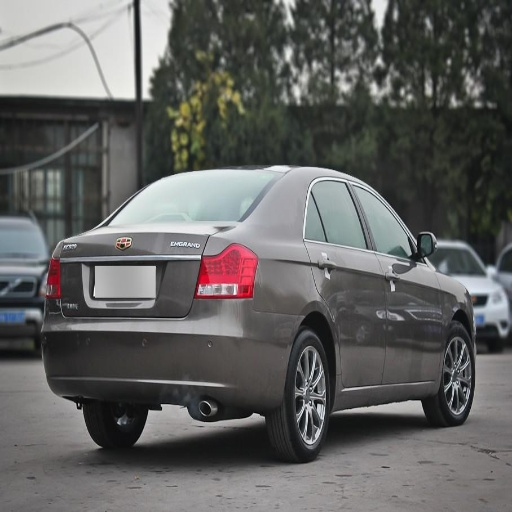back_bumper: (42, 298, 295, 415)
back_right_door: (304, 176, 385, 388)
